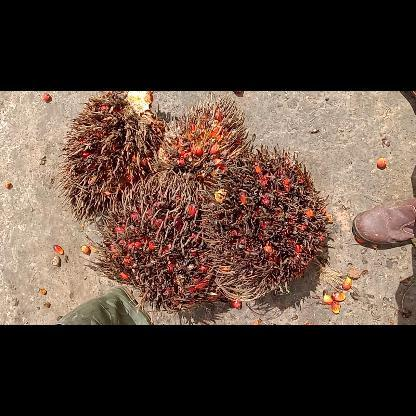Terlalu masak: (189, 140, 335, 304), (80, 172, 230, 316), (52, 91, 174, 223), (154, 90, 258, 192)
